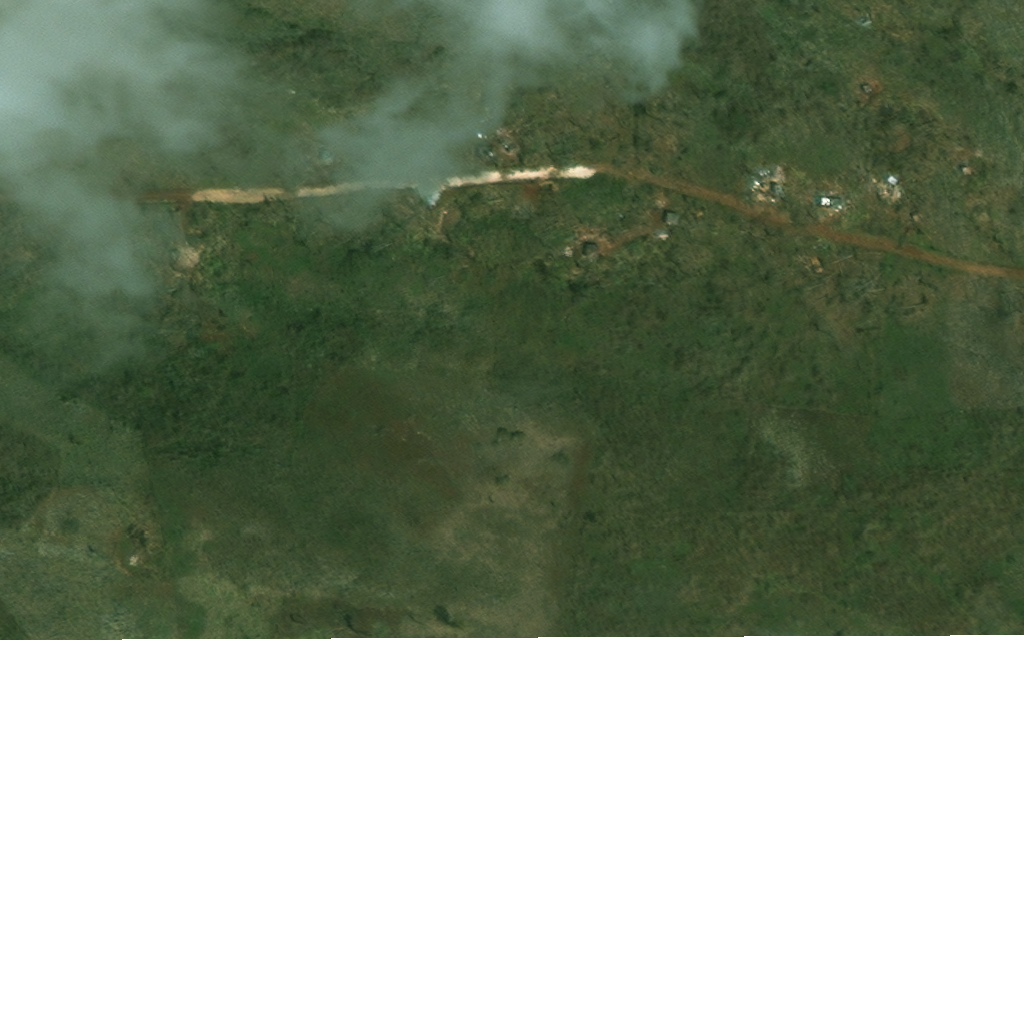destroyed: (892, 185, 909, 202), (827, 196, 845, 209), (774, 174, 782, 185)
major_damage: (875, 77, 888, 88)
minor_damage: (593, 245, 608, 257), (665, 212, 679, 224)
unclassified: (196, 249, 215, 263), (326, 150, 342, 163), (515, 143, 528, 155), (353, 220, 363, 232)
